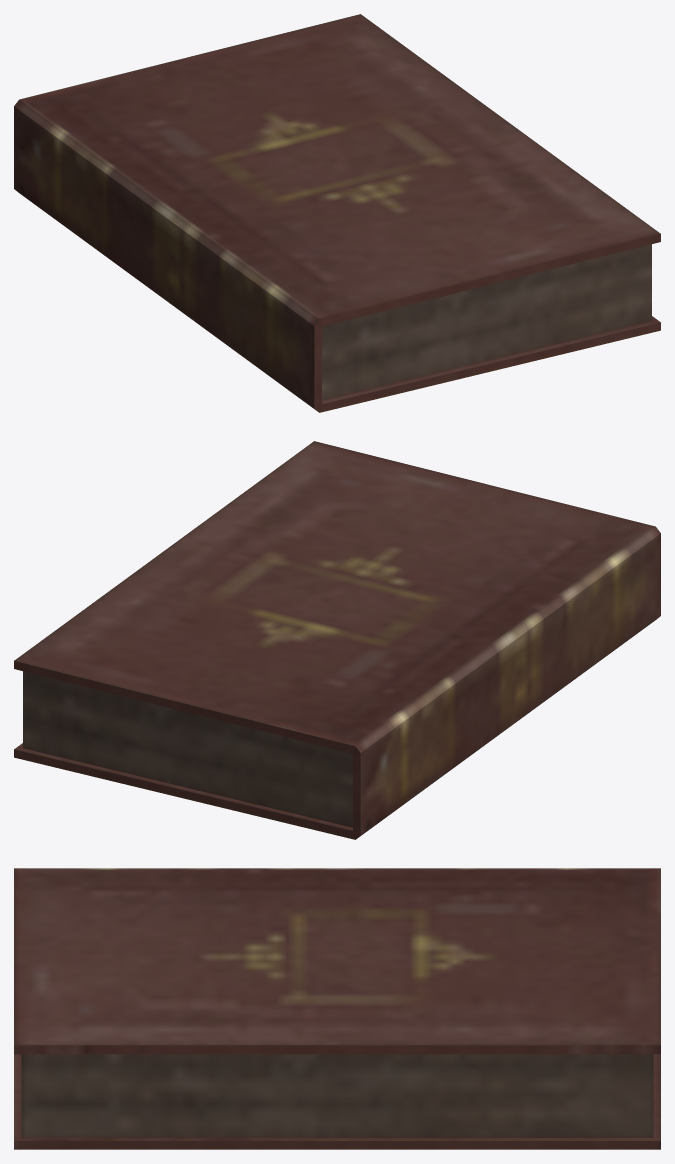
File: book_mp_1.fbx
3 renders of one model, top to bottom at view 1: azimuth 30°, elevation 25°; view 2: azimuth 150°, elevation 25°; view 3: azimuth 270°, elevation 25°, orthographic. The views are drawn at different scales.
Parts seen in each view (by area): view 1: book_mp_1; view 2: book_mp_1; view 3: book_mp_1.
Boxes of the visible parts, x1,y1,x2,y2 form: book_mp_1: (14,14,660,412); book_mp_1: (14,441,660,839); book_mp_1: (14,868,660,1149).
Size of the model in its own units: 0.18 by 0.048 by 0.27.
Materials: 1 (1 with a texture image).
